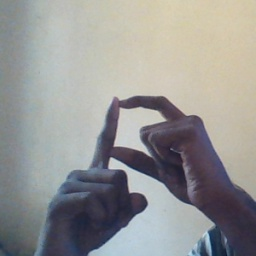D: (74, 89, 211, 201)
